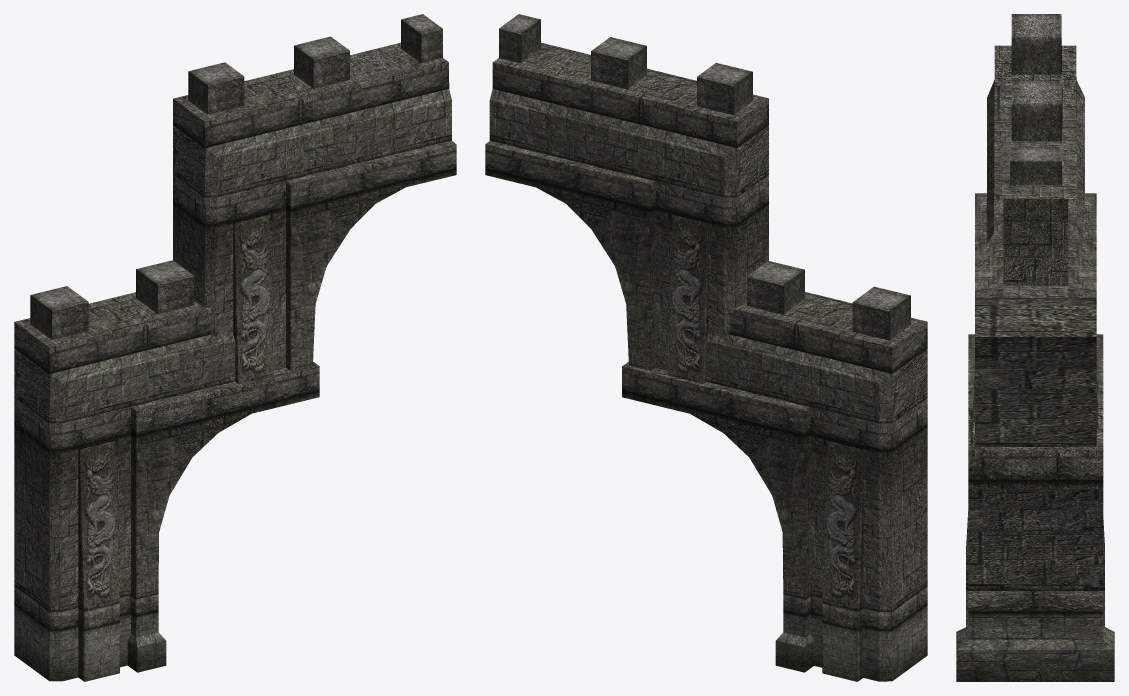
The model's file is ep-bigdam-01.fbx.
3 renders of one model, left to right at view 1: azimuth 30°, elevation 25°; view 2: azimuth 150°, elevation 25°; view 3: azimuth 270°, elevation 25°, orthographic. The views are drawn at different scales.
Visible parts, largest first — view 1: ep-bigdam-01; view 2: ep-bigdam-01; view 3: ep-bigdam-01.
Part boxes in pixels (x1=…): ep-bigdam-01: x1=14, y1=14, x2=456, y2=681; ep-bigdam-01: x1=485, y1=14, x2=927, y2=681; ep-bigdam-01: x1=956, y1=14, x2=1114, y2=681.
Size of the model in its own units: 11.27 by 14.75 by 2.99.
